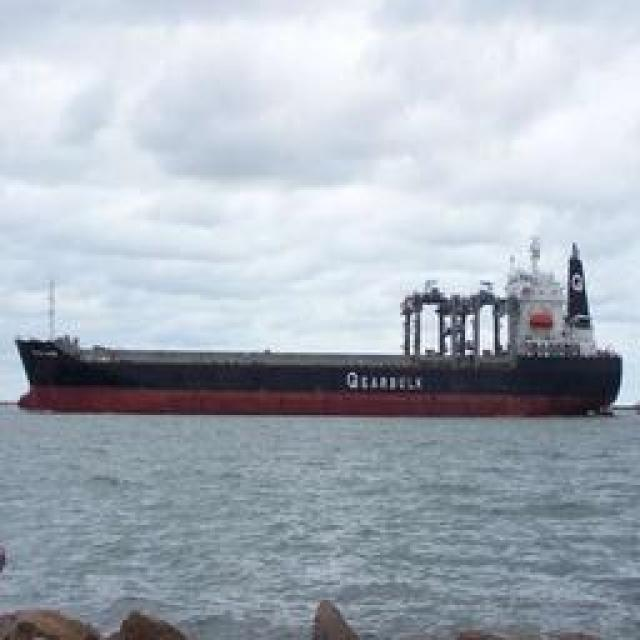CIV_Ship: (22, 298, 622, 418)
